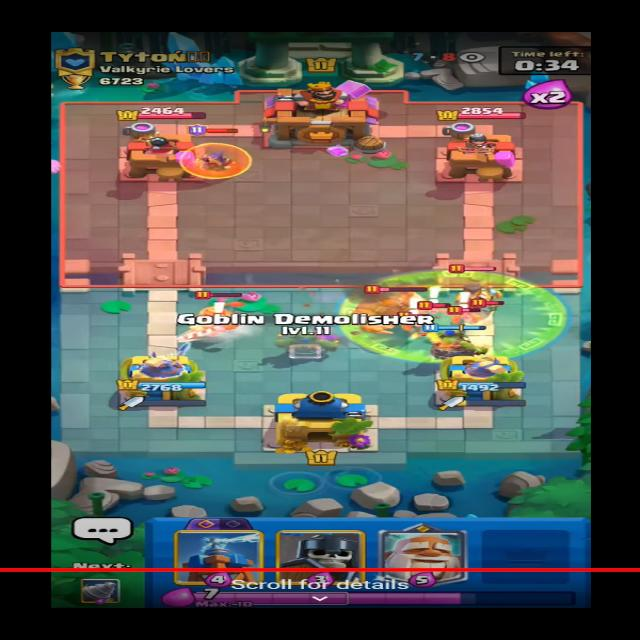bats: (442, 305, 490, 323), (409, 298, 454, 316)
evo-wizard: (177, 127, 251, 179)
giant: (340, 284, 442, 330)
night-witch: (449, 261, 498, 314)
prince: (174, 291, 251, 345)
